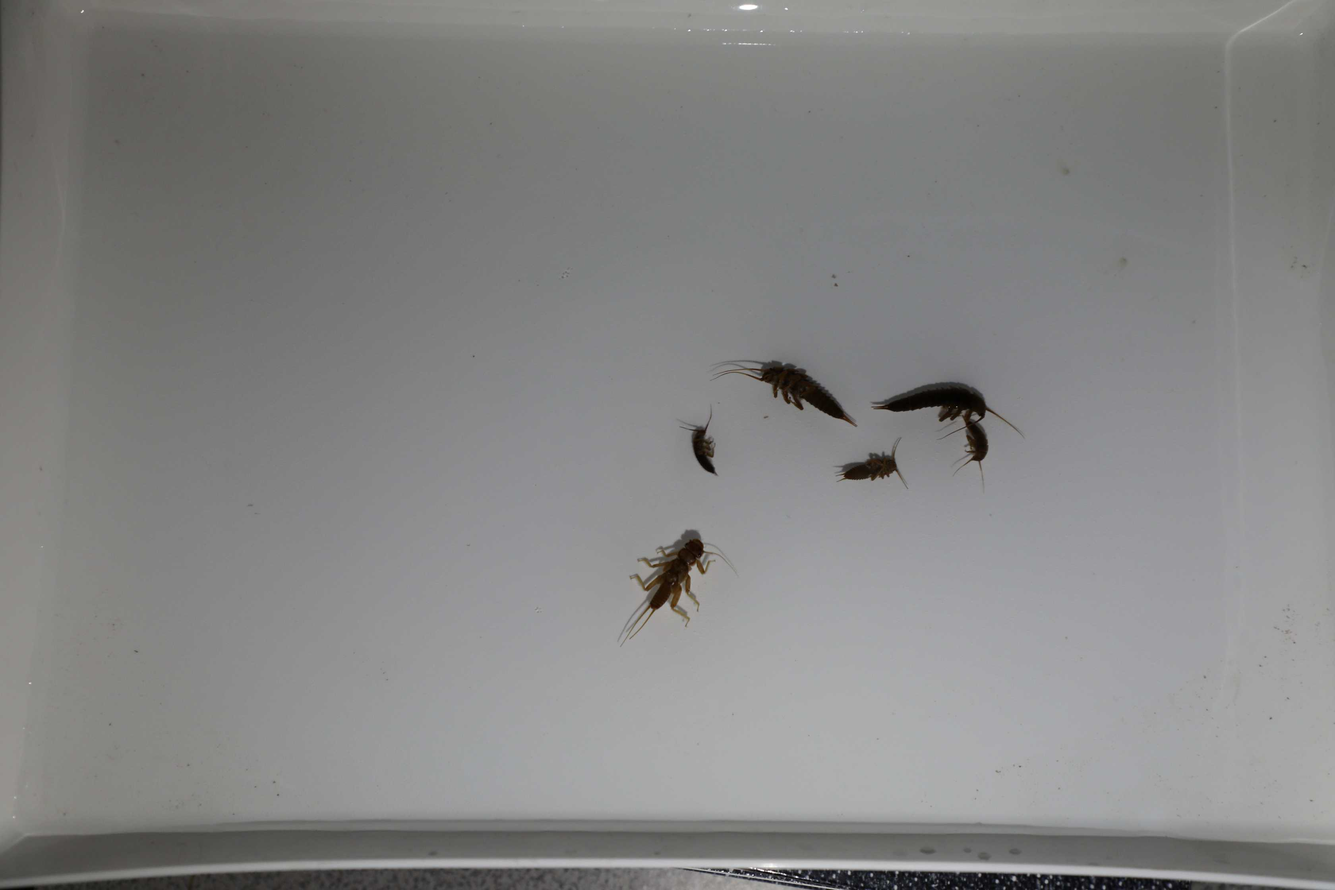Stonefly: (616, 527, 715, 642), (712, 358, 857, 433), (870, 380, 1024, 424), (834, 434, 911, 487), (674, 403, 720, 485), (948, 418, 991, 476)
